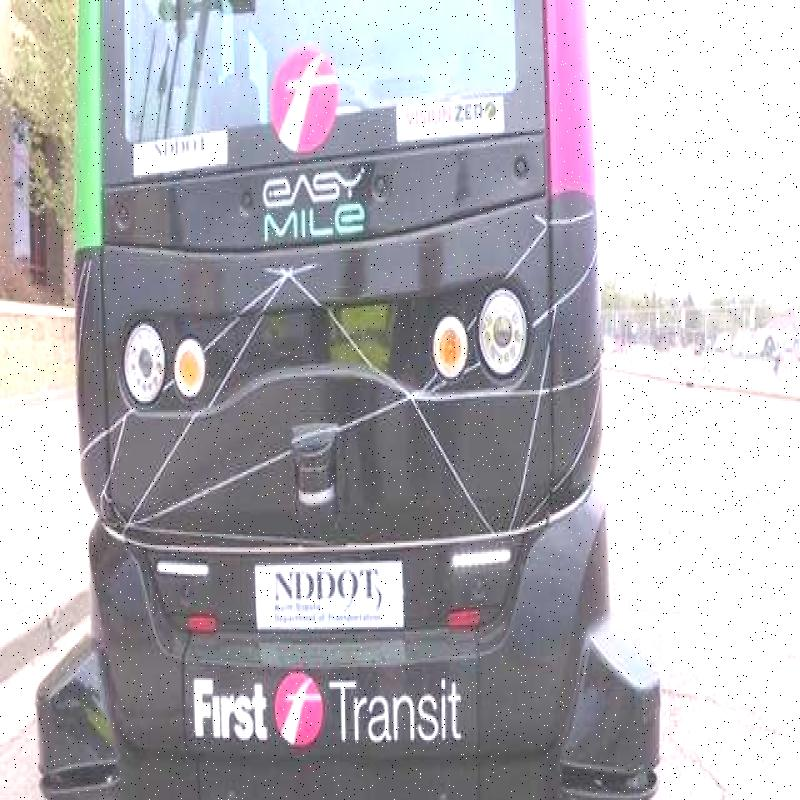bus: (59, 2, 697, 800)
